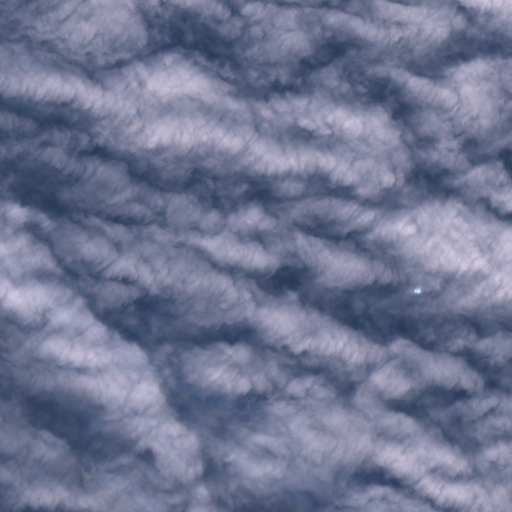Iceberg: (414, 288, 420, 292)
